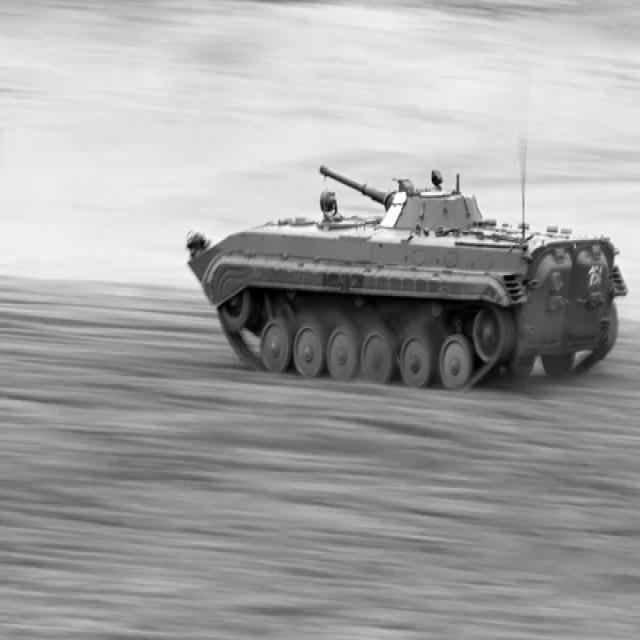Tank: (182, 163, 632, 389)
